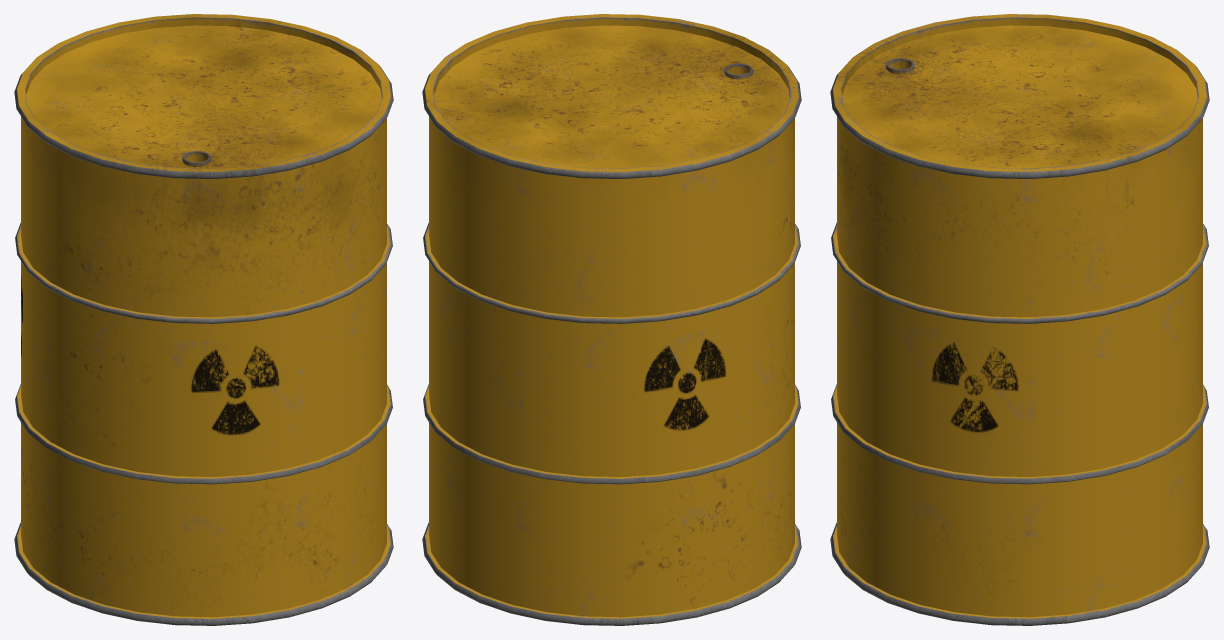
File: tambor-amarelo.obj
3 views of the same model, side by side, from view 1: azimuth 30°, elevation 25°; view 2: azimuth 150°, elevation 25°; view 3: azimuth 270°, elevation 25° (orthographic).
Parts seen in each view (by area): view 1: tambor_amarelho; view 2: tambor_amarelho; view 3: tambor_amarelho.
Boxes of the visible parts, box(x1,y1,x2,y2) form: tambor_amarelho: box(14, 14, 393, 625); tambor_amarelho: box(422, 14, 801, 625); tambor_amarelho: box(830, 14, 1209, 625).
Bounding box in the file's own units: 1.69 × 2.24 × 1.69.
Materials: 1 (1 with a texture image).
